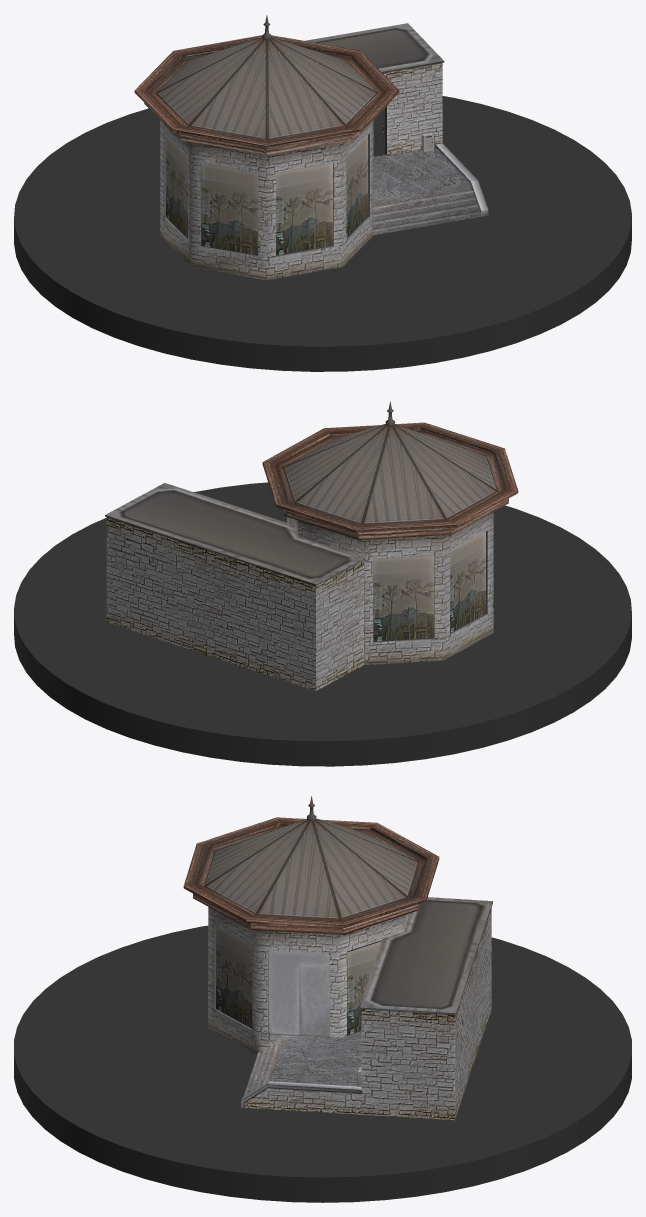
Rendered from building_clien1__game.glb.
The picture shows the model from 3 angles, top to bottom: view 1: azimuth 30°, elevation 25°; view 2: azimuth 150°, elevation 25°; view 3: azimuth 270°, elevation 25°; orthographic projection.
Parts seen in each view (by area): view 1: Object_BG, building Clien_LOWPOLY; view 2: Object_BG, building Clien_LOWPOLY; view 3: Object_BG, building Clien_LOWPOLY.
Boxes of the visible parts, left/top/right/bottom form: Object_BG: left=14, top=96, right=631, bottom=371; building Clien_LOWPOLY: left=134, top=15, right=488, bottom=280; Object_BG: left=14, top=482, right=631, bottom=766; building Clien_LOWPOLY: left=105, top=401, right=518, bottom=691; Object_BG: left=14, top=925, right=631, bottom=1202; building Clien_LOWPOLY: left=183, top=796, right=492, bottom=1120.
Bounding box in the file's own units: 169 × 81.94 × 169.
Materials: 2 (1 with a texture image).
